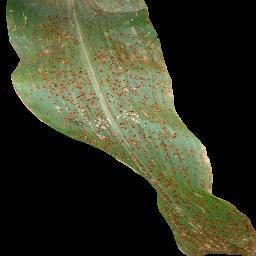Corn_Common_Rust: (3, 0, 207, 142), (88, 143, 256, 256)
